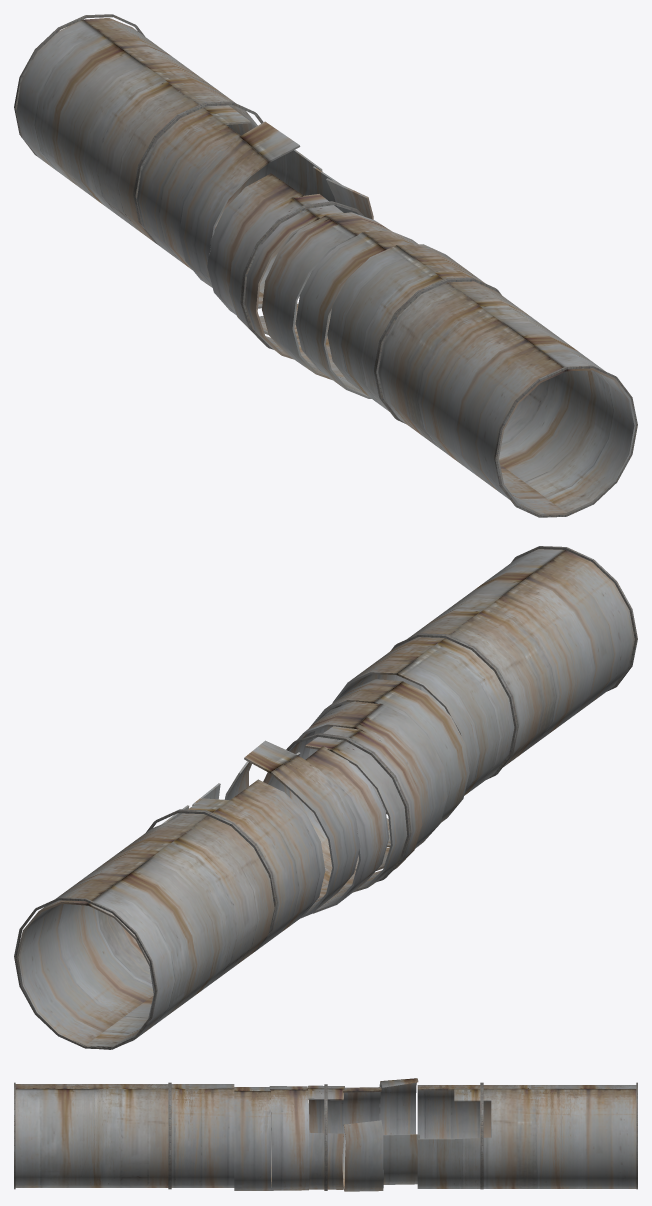
File: PipeLarge01a_Broken.fbx
3 views of the same model, one above another, from view 1: azimuth 30°, elevation 25°; view 2: azimuth 150°, elevation 25°; view 3: azimuth 270°, elevation 25° (orthographic). The views are drawn at different scales.
Parts seen in each view (by area): view 1: PipeLarge01a_Broken_LOD0; view 2: PipeLarge01a_Broken_LOD0; view 3: PipeLarge01a_Broken_LOD0.
Part boxes in pixels (x1,y1,x2,y2): PipeLarge01a_Broken_LOD0: (14, 14, 637, 517); PipeLarge01a_Broken_LOD0: (14, 546, 637, 1049); PipeLarge01a_Broken_LOD0: (14, 1078, 637, 1191).
Size of what is drawn, in the model's own units: 224 by 239 by 1200.
